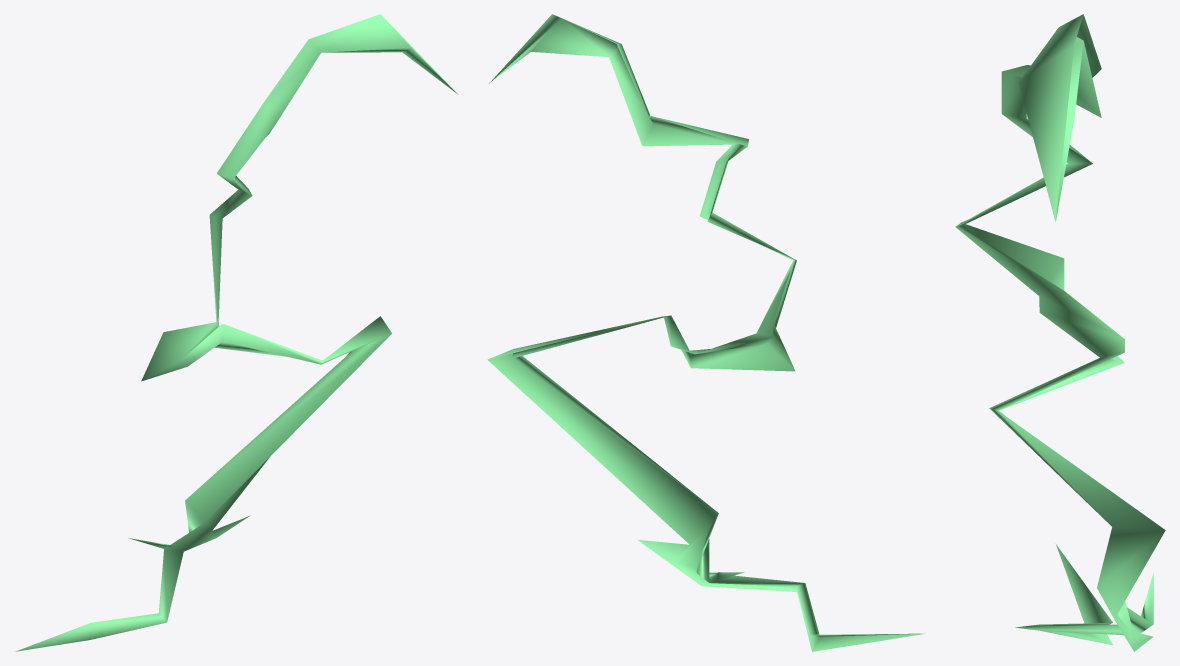
Rendered from cgwell1_light_004.FBX.
3 renders of one model, left to right at view 1: azimuth 30°, elevation 25°; view 2: azimuth 150°, elevation 25°; view 3: azimuth 270°, elevation 25°, orthographic. The views are drawn at different scales.
Visible parts, largest first — view 1: Plane004; view 2: Plane004; view 3: Plane004.
Boxes of the visible parts, <box> form: Plane004: <box>15,14,458,651</box>; Plane004: <box>487,14,925,651</box>; Plane004: <box>955,14,1165,651</box>.
Bounding box in the file's own units: 87.81 × 107 × 26.02.
